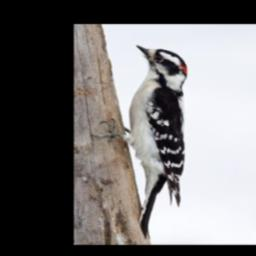Woodpecker: (90, 41, 189, 240)
